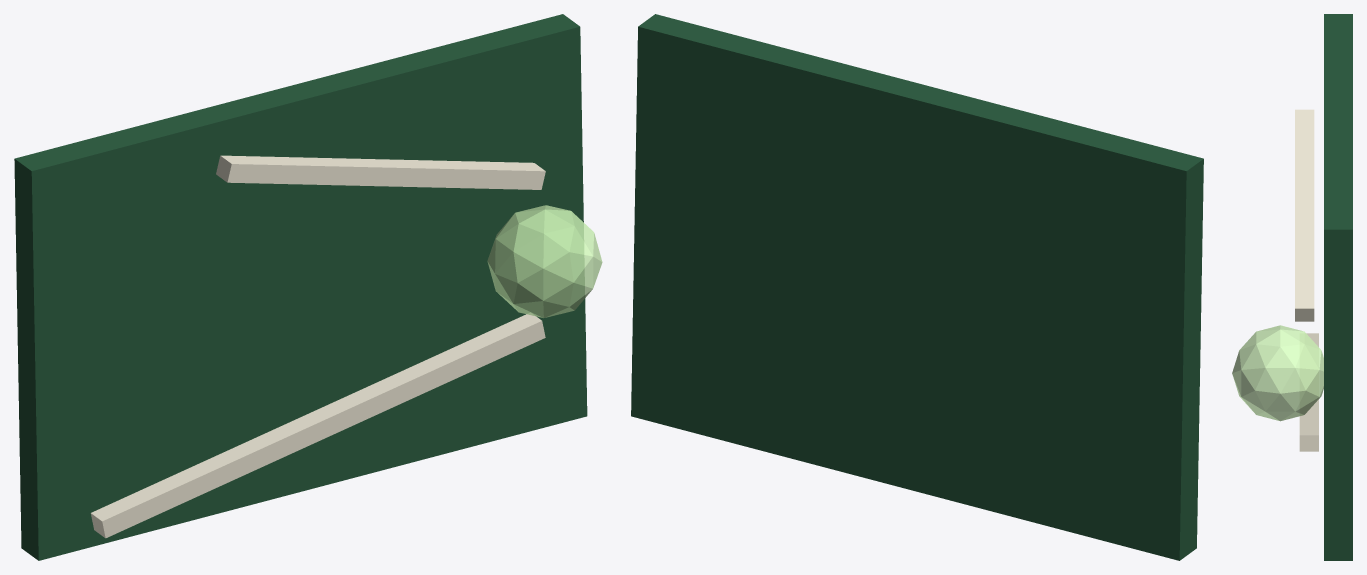
The model's file is 02_world_prop_polish.glb.
3 views of the same model, side by side, from view 1: azimuth 30°, elevation 25°; view 2: azimuth 150°, elevation 25°; view 3: azimuth 270°, elevation 25° (orthographic). The views are drawn at different scales.
Parts seen in each view (by area): view 1: object_overlay_plate, edge_wear_a, glow_socket, edge_wear_b; view 2: object_overlay_plate; view 3: object_overlay_plate, glow_socket, edge_wear_b, edge_wear_a.
Part boxes in pixels (x1,y1,x2,y2): object_overlay_plate: [14, 14, 587, 560]; edge_wear_a: [90, 313, 545, 538]; glow_socket: [487, 205, 602, 317]; edge_wear_b: [216, 155, 545, 189]; object_overlay_plate: [631, 14, 1203, 560]; object_overlay_plate: [1324, 14, 1352, 560]; glow_socket: [1232, 325, 1323, 421]; edge_wear_b: [1295, 109, 1314, 321]; edge_wear_a: [1299, 333, 1318, 451].
Size of the model in its own units: 1.11 by 0.7705 by 0.25.
